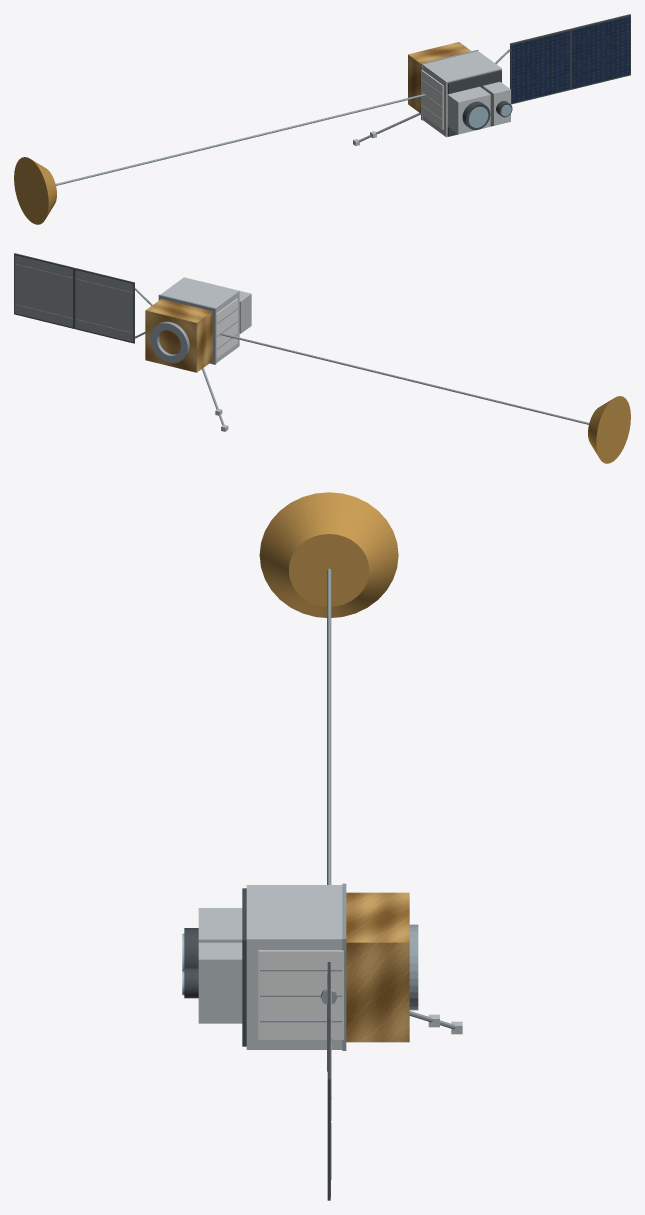
Rendered from goes-i.glb.
The picture shows the model from 3 angles, top to bottom: view 1: azimuth 30°, elevation 25°; view 2: azimuth 150°, elevation 25°; view 3: azimuth 270°, elevation 25°; orthographic projection. The views are drawn at different scales.
Parts seen in each view (by area): view 1: Solar cell panel (×2), Solar pressure sail, Imager bench (×2), Payload module, Service module, Solar sail boom, Radiator face, Solar panel frame (×2), Earth-facing deck, Optical aperture, Optical baffle; view 2: Rear array substrate (×2), Service module, Solar pressure sail, Payload module, Solar sail boom, Radiator face, Solar panel frame (×2), Launch adapter ring, Imager bench, Module interface; view 3: Solar pressure sail, Service module, Payload module, Radiator face, Imager bench (×2), Solar sail boom.
Boxes of the visible parts, x1=… form: Solar cell panel (×2): x1=511, y1=16, x2=630, y2=102; Solar pressure sail: x1=14, y1=157, x2=56, y2=224; Imager bench (×2): x1=447, y1=81, x2=510, y2=134; Payload module: x1=422, y1=51, x2=501, y2=137; Service module: x1=408, y1=42, x2=471, y2=113; Solar sail boom: x1=31, y1=94, x2=425, y2=191; Radiator face: x1=421, y1=70, x2=443, y2=129; Solar panel frame (×2): x1=510, y1=14, x2=630, y2=104; Earth-facing deck: x1=447, y1=70, x2=501, y2=136; Optical aperture: x1=468, y1=107, x2=488, y2=127; Optical baffle: x1=462, y1=101, x2=490, y2=130; Rear array substrate (×2): x1=14, y1=255, x2=133, y2=341; Service module: x1=145, y1=299, x2=212, y2=372; Solar pressure sail: x1=588, y1=396, x2=630, y2=463; Payload module: x1=161, y1=277, x2=239, y2=362; Solar sail boom: x1=219, y1=333, x2=613, y2=429; Radiator face: x1=216, y1=298, x2=237, y2=358; Solar panel frame (×2): x1=14, y1=253, x2=134, y2=343; Launch adapter ring: x1=150, y1=321, x2=189, y2=363; Imager bench: x1=220, y1=286, x2=251, y2=333; Module interface: x1=158, y1=294, x2=216, y2=364; Solar pressure sail: x1=259, y1=492, x2=398, y2=617; Service module: x1=346, y1=892, x2=409, y2=1042; Payload module: x1=246, y1=885, x2=342, y2=1049; Radiator face: x1=258, y1=950, x2=343, y2=1039; Imager bench (×2): x1=198, y1=908, x2=242, y2=1023; Solar sail boom: x1=327, y1=568, x2=331, y2=884.
Bounding box in the file's own units: 26.89 × 4.1 × 5.44.
Materials: 9 (2 with a texture image).
